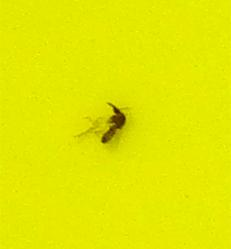Brachycera: (100, 100, 131, 149)
